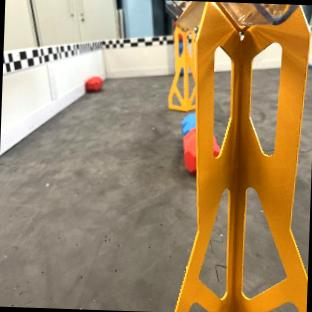Goal: (175, 1, 309, 312)
V5_BLUE: (182, 112, 196, 134)
V5_RED: (183, 128, 196, 172), (85, 76, 102, 91)
